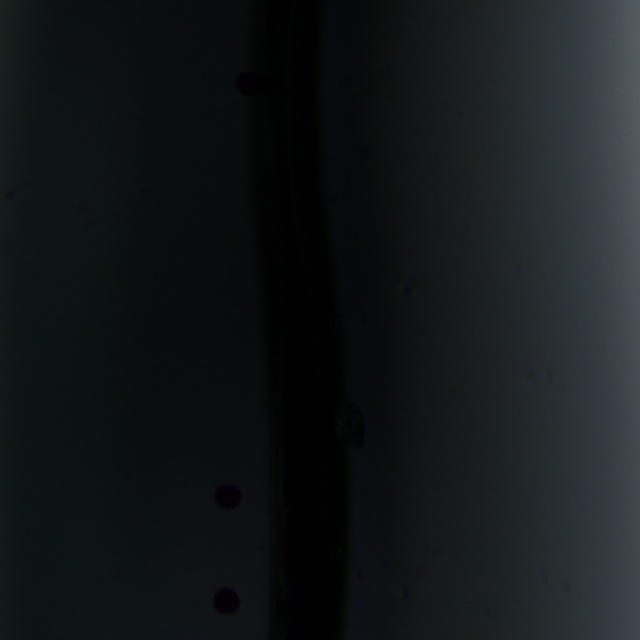viable: (214, 588, 239, 614), (214, 485, 241, 509)
